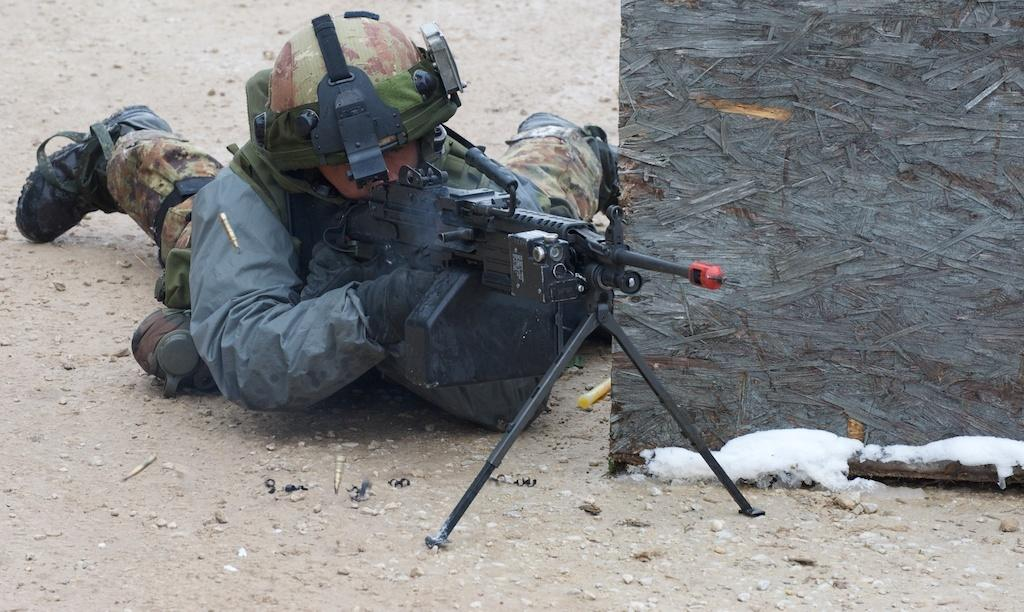Rifle: (320, 146, 764, 549)
